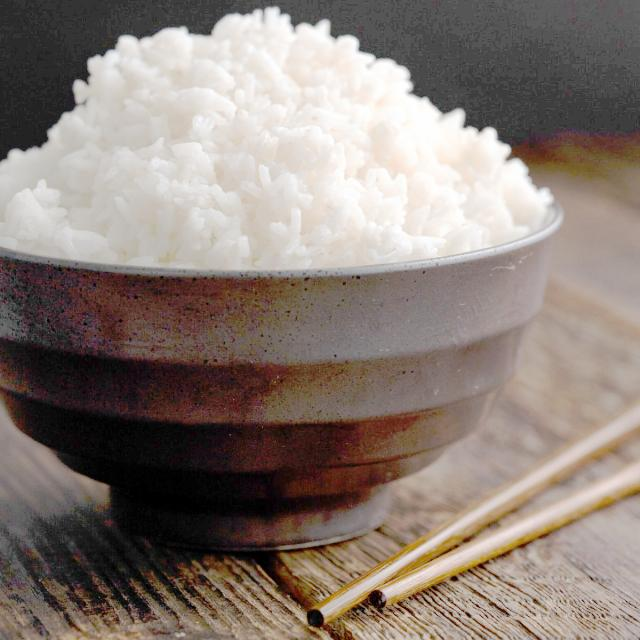rice: (0, 13, 549, 269)
